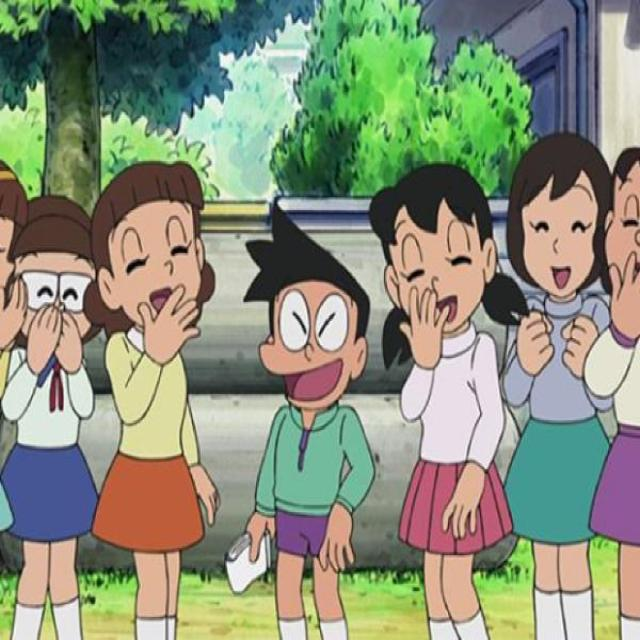shizuka: (368, 158, 526, 366)
suneo: (245, 211, 372, 423)
